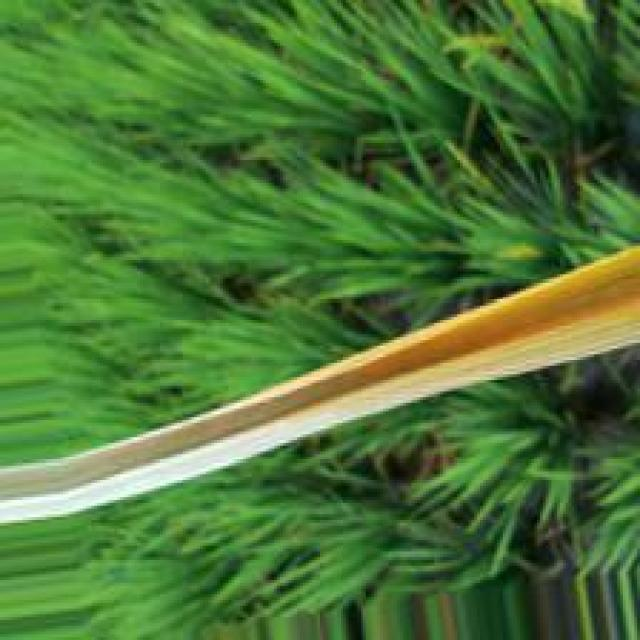Bacterial_Leaf_Blight: (190, 251, 639, 446)
